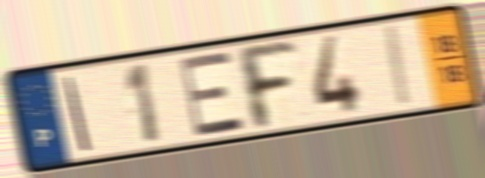1: (120, 60, 163, 148)
4: (310, 32, 365, 117)
E: (176, 48, 250, 140)
F: (231, 39, 301, 134)
I: (384, 22, 416, 110), (61, 74, 94, 155)
